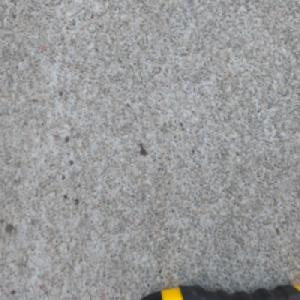Cutter: (134, 278, 300, 300)
